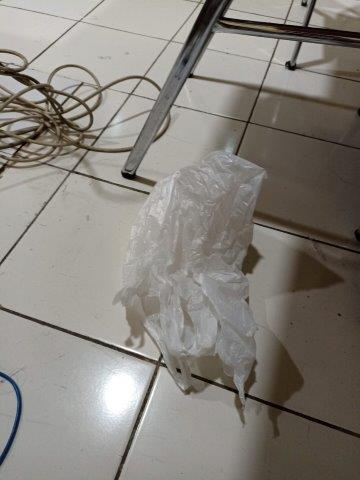plastik: (116, 147, 267, 399)
